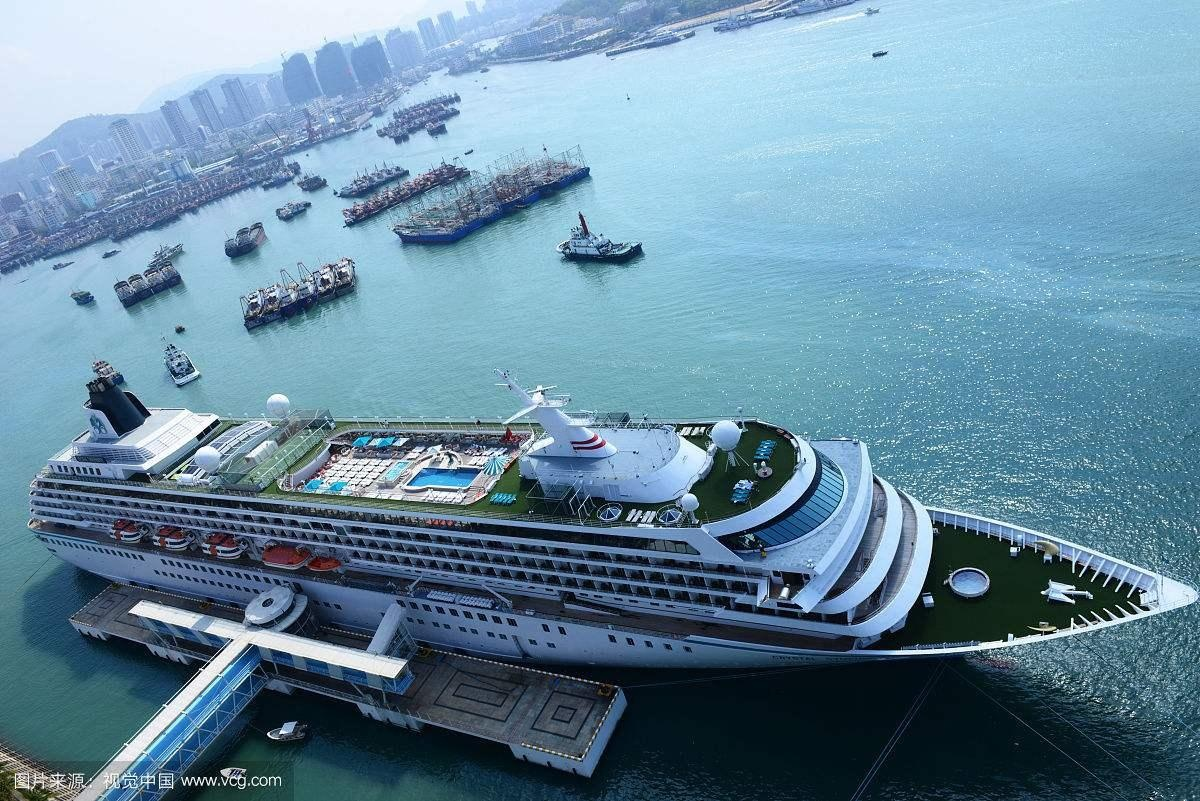otherboat: (551, 209, 645, 264), (162, 339, 201, 388)
youlun: (22, 361, 1200, 678)
